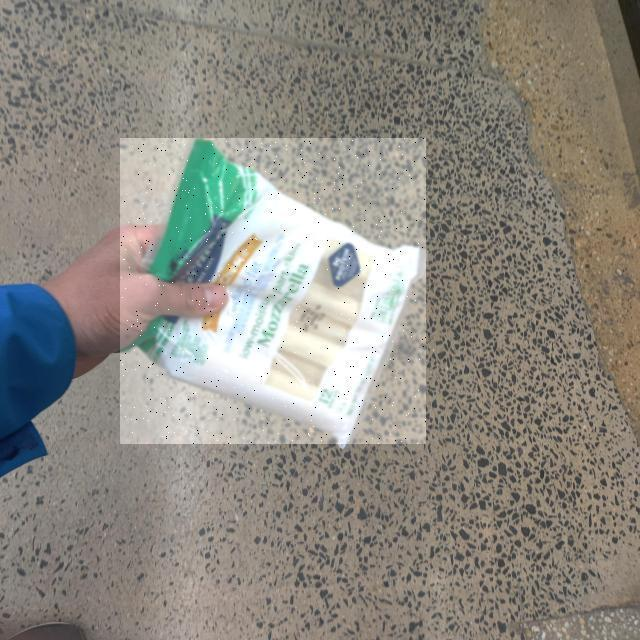cheese: (0, 222, 334, 640)
